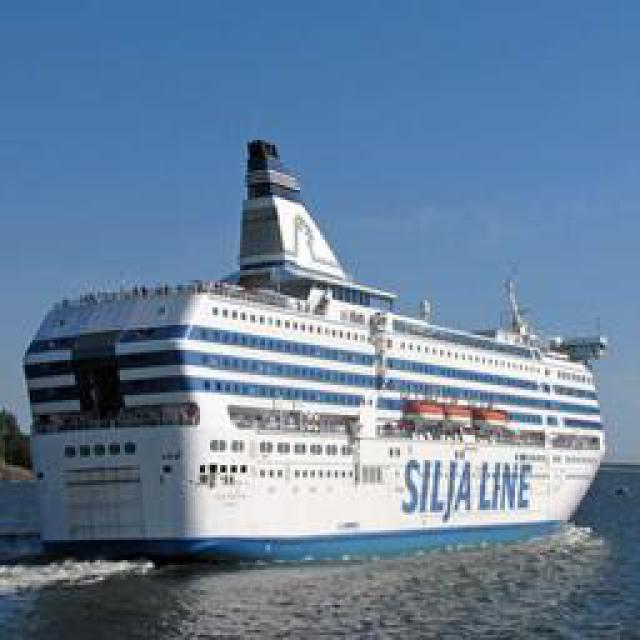Ship: (26, 127, 604, 565)
